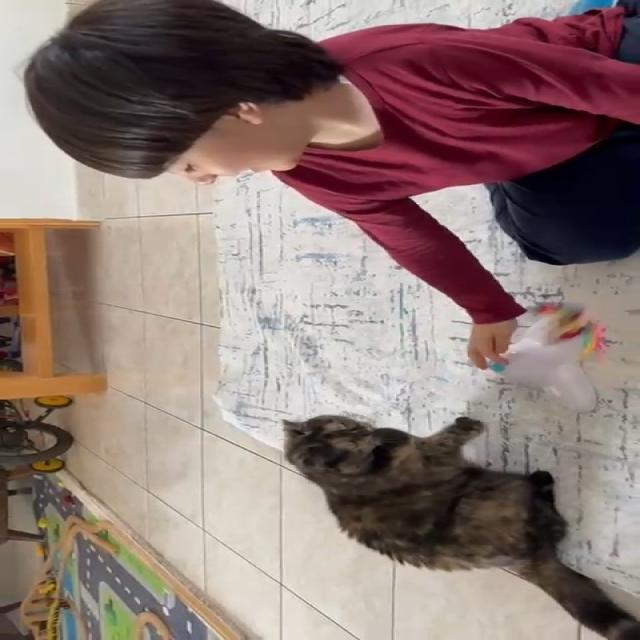authorized: (280, 414, 639, 639)
